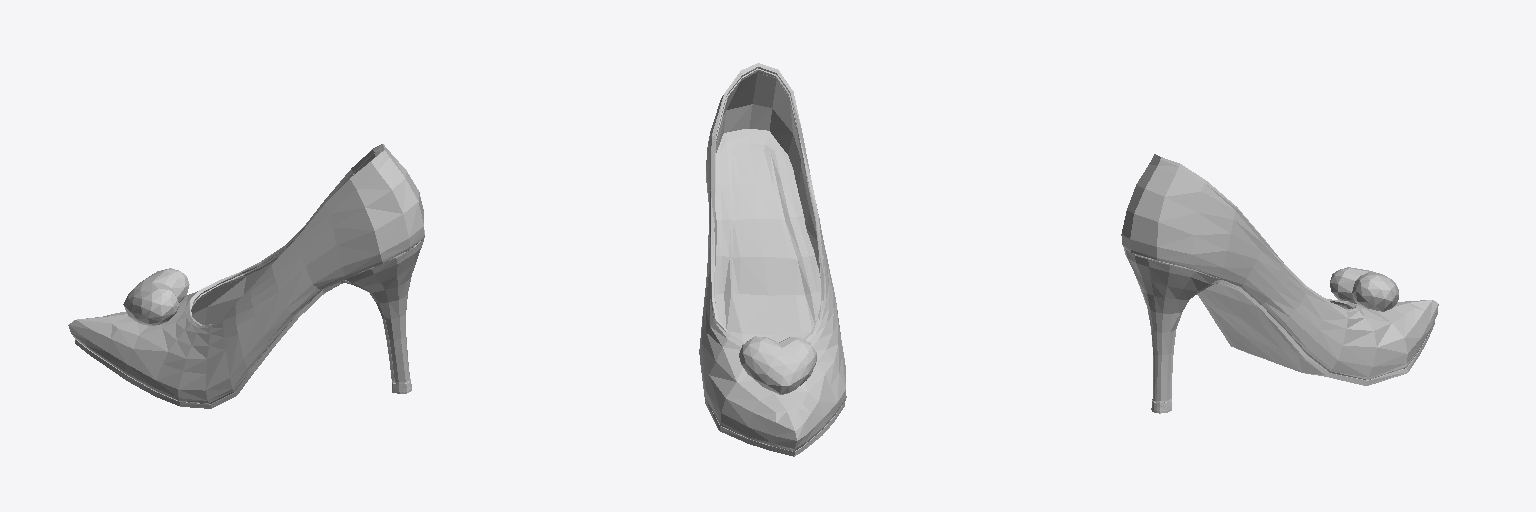
The model's file is shoe2.obj.
3 views of the same model, side by side, from view 1: azimuth 30°, elevation 25°; view 2: azimuth 150°, elevation 25°; view 3: azimuth 270°, elevation 25° (orthographic).
Visible parts, largest first — view 1: shoe_full_scene:Love1; view 2: shoe_full_scene:Love1; view 3: shoe_full_scene:Love1.
Boxes of the visible parts, x1,y1,x2,y2 form: shoe_full_scene:Love1: [68, 144, 424, 408]; shoe_full_scene:Love1: [699, 63, 846, 456]; shoe_full_scene:Love1: [1121, 154, 1438, 413].
Size of the model in its own units: 0.7143 by 0.8353 by 0.9051.